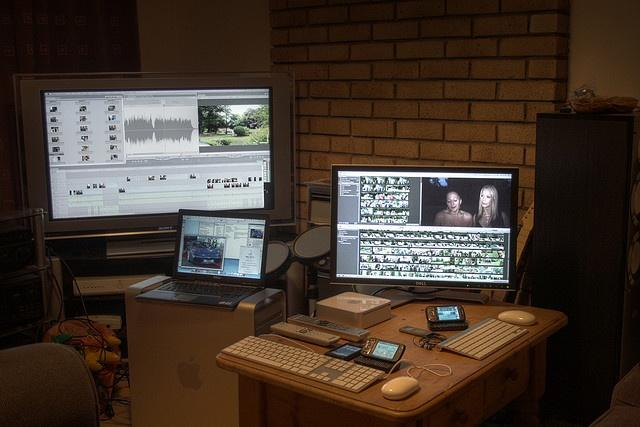AIO PC-Monitor-TV: (15, 76, 293, 239), (328, 163, 519, 290)
Meja: (214, 290, 567, 424)
